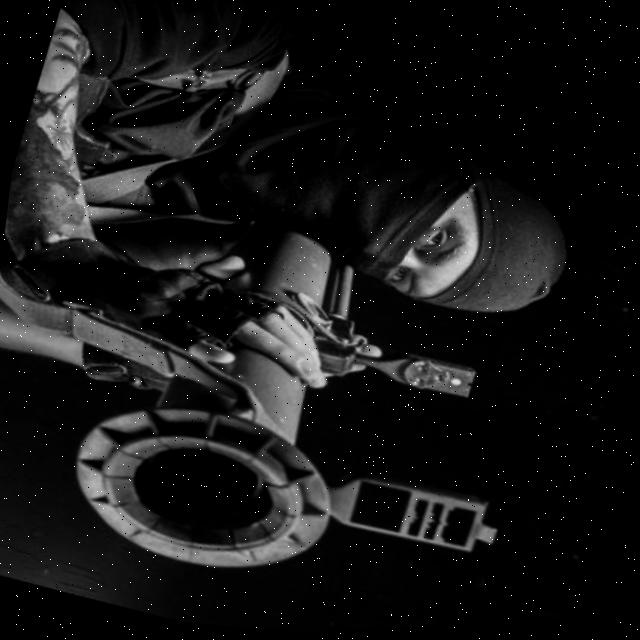rocket: (54, 217, 567, 639)
